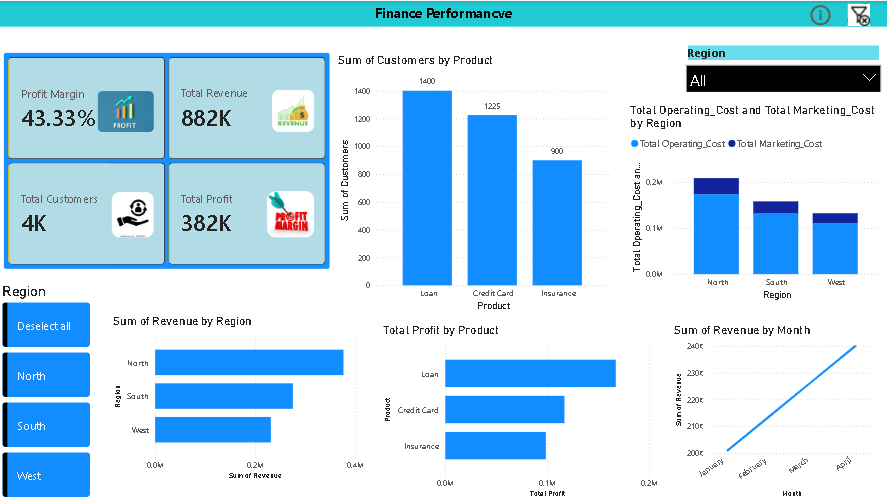

The dashboard page shown, as its layout file describes it:
{"tool":"powerbi","page":{"name":"Page 1","canvas":[1280,720],"ordinal":0},"visuals":[{"type":"cardVisual","fields":{"Data":["Finance practice.Profit Margin","Sum(Finance practice.Revenue)","Sum(Finance practice.Customers)","Sum(Finance practice.Profit)"]},"box":[0,67.7,483.8,325.4],"z":0},{"type":"actionButton","box":[1163.5,0,38.9,40.3],"z":1000,"group":"g1"},{"type":"barChart","fields":{"Category":["Finance practice.Region"],"Y":["Sum(Finance practice.Revenue)"]},"box":[159.8,450.7,371.5,243.4],"z":1000},{"type":"actionButton","box":[1218.2,0,61.9,40.3],"z":2000,"group":"g1"},{"type":"barChart","fields":{"Category":["Finance practice.Product"],"Y":["Sum(Finance practice.Profit)"]},"box":[548.6,463.7,406.1,256.3],"z":2000},{"type":"lineChart","fields":{"Category":["Finance practice.Date.Variation.Date Hierarchy.Month"],"Y":["Sum(Finance practice.Revenue)"]},"box":[967.7,463.7,295.2,256.3],"z":3000},{"type":"advancedSlicerVisual","fields":{"Values":["Finance practice.Region"]},"box":[0,406.1,136.8,313.9],"z":4000},{"type":"columnChart","fields":{"Category":["Finance practice.Region"],"Y":["Sum(Finance practice.Operating_Cost)","Sum(Finance practice.Marketing_Cost)"]},"box":[904.9,147.3,375.1,288.7],"z":5000},{"type":"columnChart","fields":{"Category":["Finance practice.Product"],"Y":["Sum(Finance practice.Customers)"]},"box":[483.7,74.4,401.9,376.6],"z":6000},{"type":"textbox","box":[0,0,1280.2,37.4],"z":7000},{"type":"group","id":"g1","title":"Group 1","box":[1163.5,0,116.6,40.3],"z":8000},{"type":"slicer","fields":{"Values":["Finance practice.Region"]},"box":[979.2,59,301,72],"z":9001}]}

Visuals, with their boxes in screenshot pixels (x1, y1, x2, y2), scaled from the page's 1280x720 canvas onto the 887x501 screenshot:
cardVisual - Finance practice.Profit Margin x Sum(Finance practice.Revenue): pyautogui.locateOnScreen(0, 47, 335, 274)
actionButton: pyautogui.locateOnScreen(806, 0, 833, 28)
barChart - Finance practice.Region x Sum(Finance practice.Revenue): pyautogui.locateOnScreen(111, 314, 368, 483)
actionButton: pyautogui.locateOnScreen(844, 0, 886, 28)
barChart - Finance practice.Product x Sum(Finance practice.Profit): pyautogui.locateOnScreen(380, 323, 662, 500)
lineChart - Finance practice.Date.Variation.Date Hierarchy.Month x Sum(Finance practice.Revenue): pyautogui.locateOnScreen(671, 323, 875, 500)
advancedSlicerVisual - Finance practice.Region: pyautogui.locateOnScreen(0, 283, 95, 500)
columnChart - Finance practice.Region x Sum(Finance practice.Operating_Cost): pyautogui.locateOnScreen(627, 102, 886, 303)
columnChart - Finance practice.Product x Sum(Finance practice.Customers): pyautogui.locateOnScreen(335, 52, 614, 314)
textbox: pyautogui.locateOnScreen(0, 0, 886, 26)
"Group 1" group: pyautogui.locateOnScreen(806, 0, 886, 28)
slicer - Finance practice.Region: pyautogui.locateOnScreen(679, 41, 886, 91)
